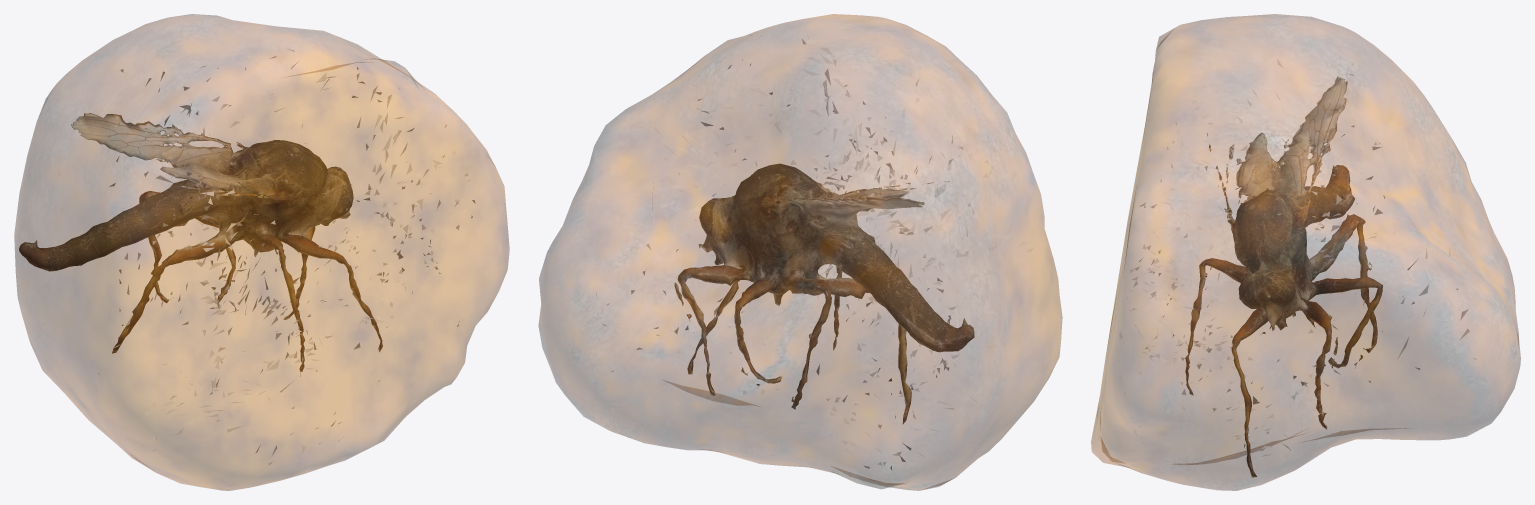
File: amber.glb
3 views of the same model, side by side, from view 1: azimuth 30°, elevation 25°; view 2: azimuth 150°, elevation 25°; view 3: azimuth 270°, elevation 25° (orthographic). The views are drawn at different scales.
Parts seen in each view (by area): view 1: 5_amber_lr_PBR_0, 2_mosquito_lr_original.o_material_0_0, 6_eclats_eclats_0; view 2: 5_amber_lr_PBR_0, 2_mosquito_lr_original.o_material_0_0, 6_eclats_eclats_0; view 3: 5_amber_lr_PBR_0, 2_mosquito_lr_original.o_material_0_0, 6_eclats_eclats_0.
Boxes of the visible parts, x1,y1,x2,y2 form: 5_amber_lr_PBR_0: (14,14,509,490); 2_mosquito_lr_original.o_material_0_0: (19,113,382,371); 6_eclats_eclats_0: (98,49,475,465); 5_amber_lr_PBR_0: (538,14,1062,490); 2_mosquito_lr_original.o_material_0_0: (674,163,974,423); 6_eclats_eclats_0: (596,35,1036,469); 5_amber_lr_PBR_0: (1091,14,1520,490); 2_mosquito_lr_original.o_material_0_0: (1185,76,1382,477); 6_eclats_eclats_0: (1109,59,1475,456).
Bounding box in the file's own units: 0.0972 × 0.0997 × 0.0879.
Materials: 3 (2 with a texture image).
